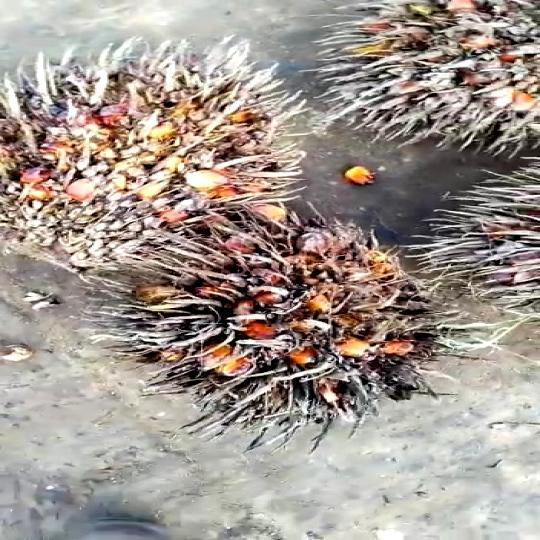terlalu masak: (123, 210, 479, 450), (0, 35, 347, 276)
